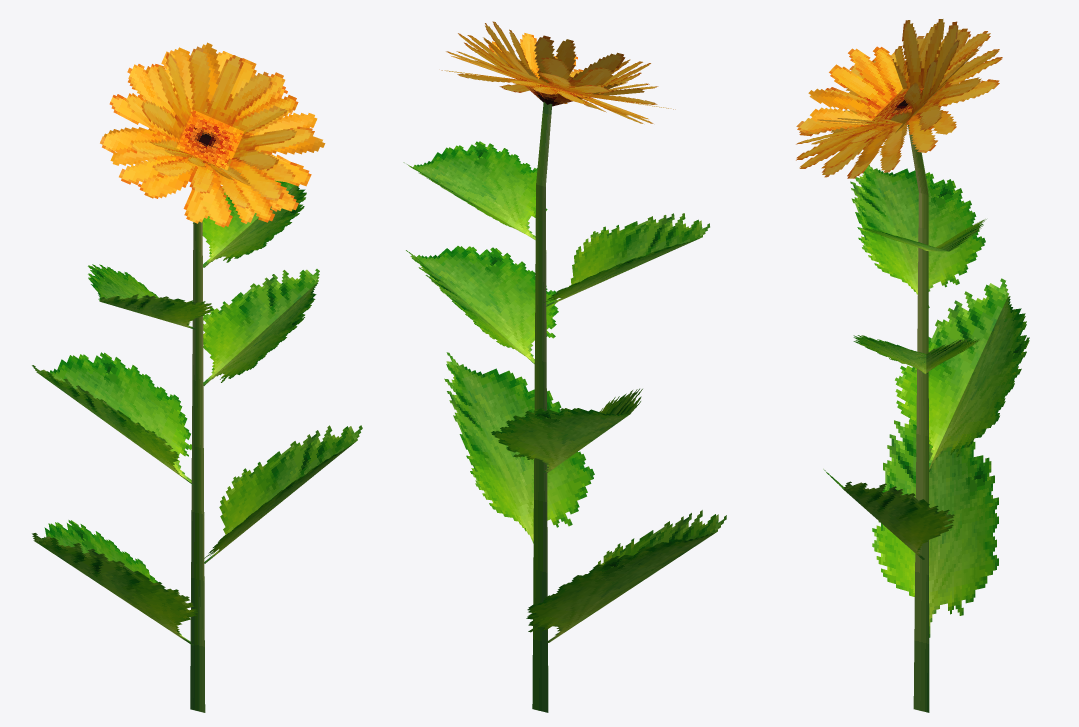
File: yellow_flower1.obj
3 views of the same model, side by side, from view 1: azimuth 30°, elevation 25°; view 2: azimuth 150°, elevation 25°; view 3: azimuth 270°, elevation 25° (orthographic). The views are drawn at different scales.
Parts seen in each view (by area): view 1: obj6; view 2: obj6; view 3: obj6.
Part boxes in pixels (x1=…): obj6: x1=32, y1=42, x2=362, y2=712; obj6: x1=403, y1=21, x2=726, y2=712; obj6: x1=796, y1=19, x2=1029, y2=712.
Size of the model in its own units: 8.93 by 18.4 by 7.39.
Materials: 3 (3 with a texture image).
